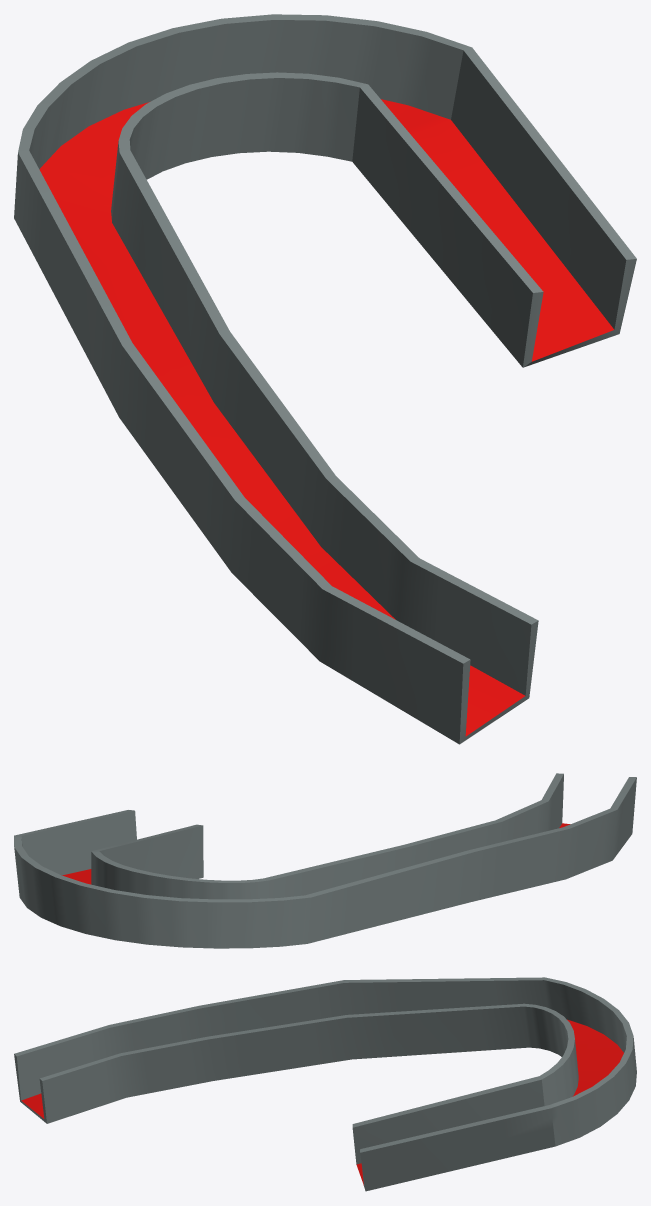
File: ramp.fbx
3 renders of one model, top to bottom at view 1: azimuth 30°, elevation 25°; view 2: azimuth 150°, elevation 25°; view 3: azimuth 270°, elevation 25°, orthographic. The views are drawn at different scales.
Parts seen in each view (by area): view 1: Cube.009; view 2: Cube.009; view 3: Cube.009.
Boxes of the visible parts, left/top/right/bottom form: Cube.009: left=14, top=14, right=636, bottom=744; Cube.009: left=14, top=773, right=636, bottom=948; Cube.009: left=14, top=977, right=636, bottom=1191.
Bounding box in the file's own units: 72.34 × 30.95 × 127.
